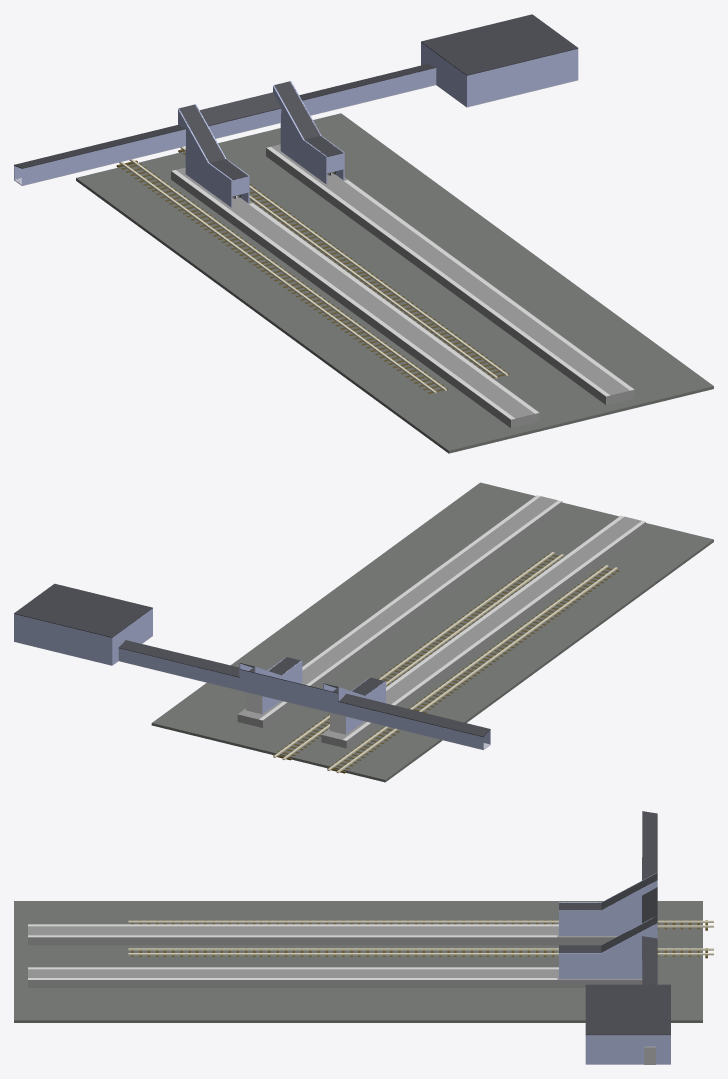
File: map_reseinside_texsimple.glb
The picture shows the model from 3 angles, top to bottom: view 1: azimuth 30°, elevation 25°; view 2: azimuth 150°, elevation 25°; view 3: azimuth 270°, elevation 25°; orthographic projection. The views are drawn at different scales.
Parts seen in each view (by area): view 1: Cube.181, Cube.078, Cube.089, Cube.180, Cube.176, Cube.168, Cube.169, Cube.079, Cube.041, Cube.182, Cube.088, Cube.171 (+13 smaller); view 2: Cube.181, Cube.089, Cube.078, Cube.083, Cube.180, Cube.177, Cube.079, Cube.088, Cube.041, Cube.182, Cube.008, Cube.183 (+5 smaller); view 3: Cube.181, Cube.078, Cube.089, Cube.180, Cube.178, Cube.086, Cube.182, Cube.041, Cube.183, Cube.081, Cube.314, Cube.315 (+8 smaller).
Boxes of the visible parts, left/top/right/bottom form: Cube.181: left=76, top=113, right=713, bottom=453; Cube.078: left=171, top=167, right=539, bottom=428; Cube.089: left=266, top=144, right=634, bottom=404; Cube.180: left=421, top=14, right=578, bottom=75; Cube.176: left=466, top=49, right=578, bottom=106; Cube.168: left=22, top=129, right=185, bottom=185; Cube.169: left=302, top=68, right=436, bottom=115; Cube.079: left=14, top=101, right=242, bottom=168; Cube.041: left=266, top=146, right=610, bottom=396; Cube.182: left=172, top=170, right=514, bottom=419; Cube.088: left=235, top=64, right=436, bottom=117; Cube.171: left=274, top=81, right=343, bottom=156; Cube.181: left=151, top=482, right=713, bottom=782; Cube.089: left=237, top=496, right=562, bottom=727; Cube.078: left=321, top=516, right=645, bottom=748; Cube.083: left=118, top=648, right=483, bottom=749; Cube.180: left=14, top=583, right=152, bottom=637; Cube.177: left=14, top=614, right=112, bottom=665; Cube.079: left=289, top=681, right=490, bottom=737; Cube.088: left=118, top=640, right=288, bottom=681; Cube.041: left=259, top=500, right=561, bottom=720; Cube.182: left=343, top=521, right=645, bottom=740; Cube.008: left=302, top=495, right=540, bottom=670; Cube.183: left=386, top=515, right=624, bottom=690; Cube.181: left=14, top=901, right=702, bottom=1022; Cube.078: left=28, top=926, right=617, bottom=945; Cube.089: left=28, top=969, right=642, bottom=987; Cube.180: left=585, top=984, right=670, bottom=1035; Cube.178: left=586, top=1035, right=670, bottom=1064; Cube.086: left=601, top=923, right=657, bottom=978; Cube.182: left=28, top=924, right=558, bottom=926; Cube.041: left=28, top=967, right=558, bottom=969; Cube.183: left=28, top=935, right=557, bottom=937; Cube.081: left=601, top=880, right=657, bottom=935; Cube.314: left=128, top=948, right=713, bottom=950; Cube.315: left=128, top=953, right=713, bottom=955.
Bounding box in the file's own units: 388 × 50.77 × 483.
